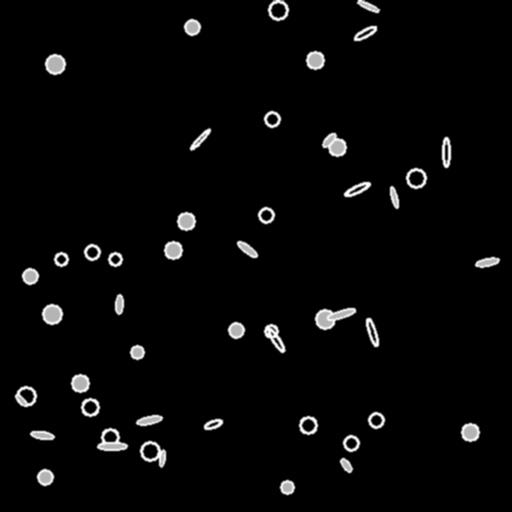pseudomonas: (266, 327, 286, 353), (343, 180, 371, 198), (189, 128, 211, 150), (236, 239, 258, 259), (353, 24, 377, 42), (326, 307, 356, 321), (365, 318, 379, 346), (356, 0, 380, 13), (136, 415, 162, 425), (321, 132, 337, 148), (475, 257, 499, 267), (203, 418, 223, 430), (339, 457, 353, 473), (389, 186, 399, 208), (31, 430, 53, 440), (14, 393, 28, 407), (443, 138, 450, 166), (98, 443, 126, 449), (158, 450, 166, 466), (116, 295, 122, 313)
synechocystis: (407, 169, 425, 187), (43, 305, 61, 323), (17, 387, 35, 405), (141, 442, 159, 460), (46, 55, 64, 73), (316, 310, 334, 328), (269, 1, 287, 19), (462, 424, 478, 440), (307, 52, 323, 68), (300, 417, 316, 433), (72, 375, 88, 391), (165, 242, 181, 258), (82, 399, 98, 415), (178, 213, 194, 229), (329, 139, 345, 155), (102, 429, 118, 445), (259, 208, 273, 222), (23, 269, 37, 283), (85, 245, 99, 259), (229, 323, 243, 337), (185, 20, 199, 34), (38, 470, 52, 484), (265, 112, 279, 126), (344, 436, 358, 450), (369, 413, 383, 427), (265, 325, 277, 337), (55, 253, 67, 265), (131, 346, 143, 358), (109, 253, 121, 265), (281, 481, 293, 493)
